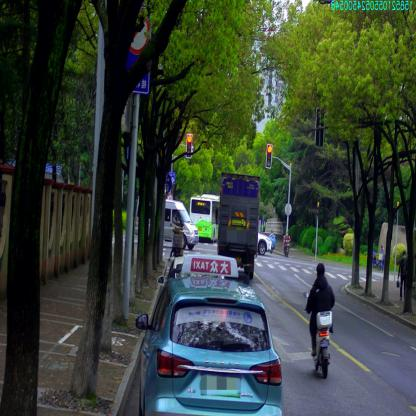traffic-light: (266, 144, 272, 168), (186, 134, 192, 158)
